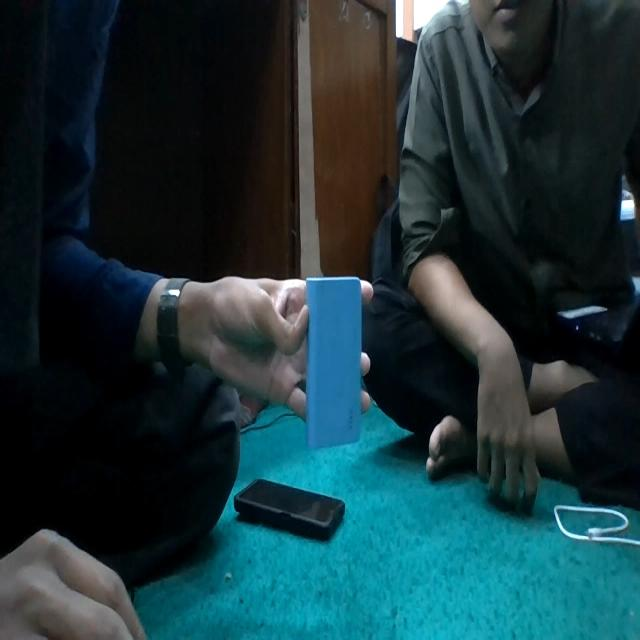Powerbank: (306, 277, 364, 448)
